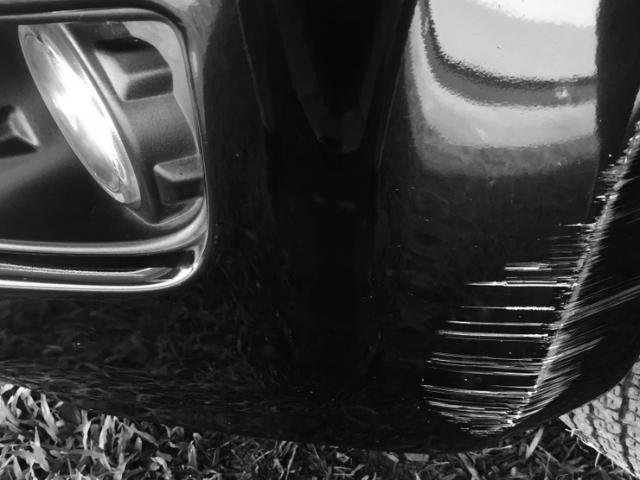Bumper: (384, 57, 640, 450)
